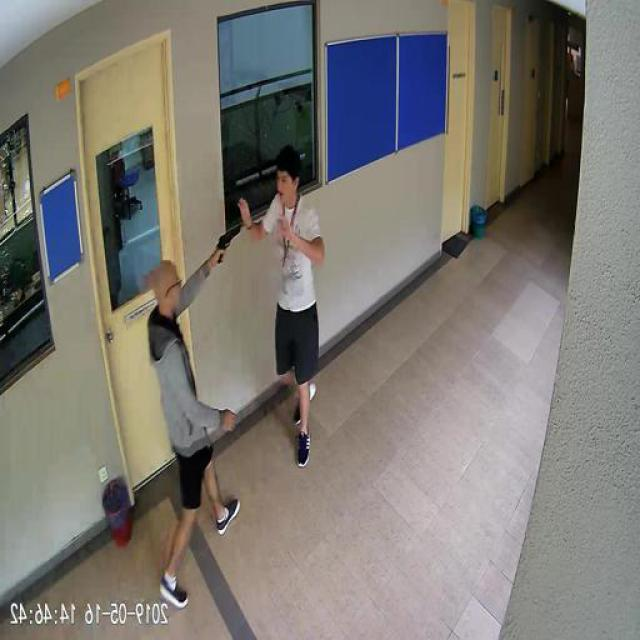Gun: (218, 222, 242, 262)
